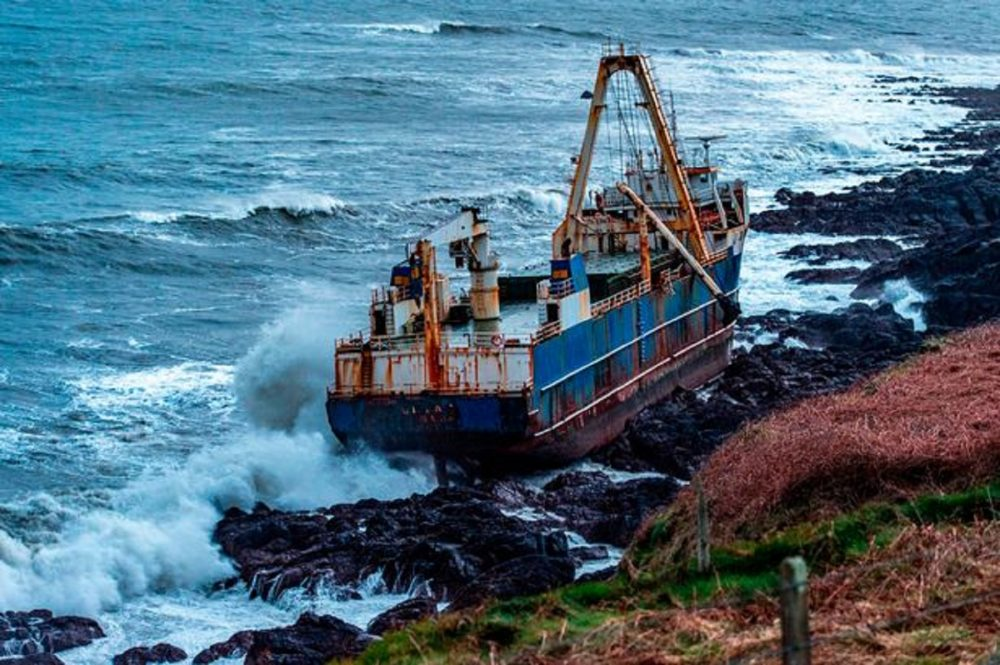rust: (423, 307, 450, 397), (590, 361, 631, 418), (334, 354, 372, 393), (638, 224, 651, 276)
